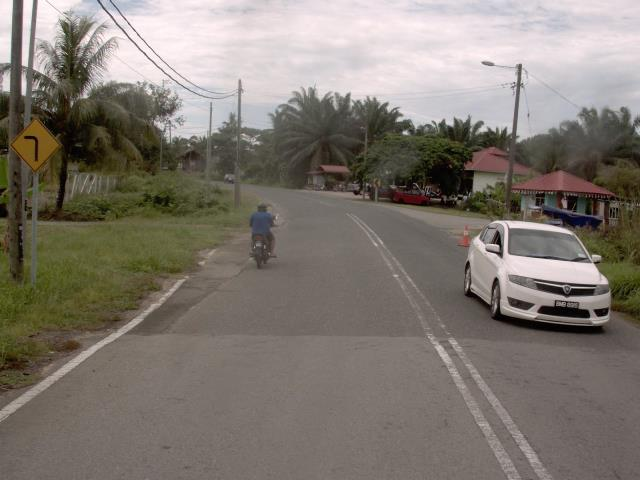traffic_sign: (4, 113, 65, 178)
